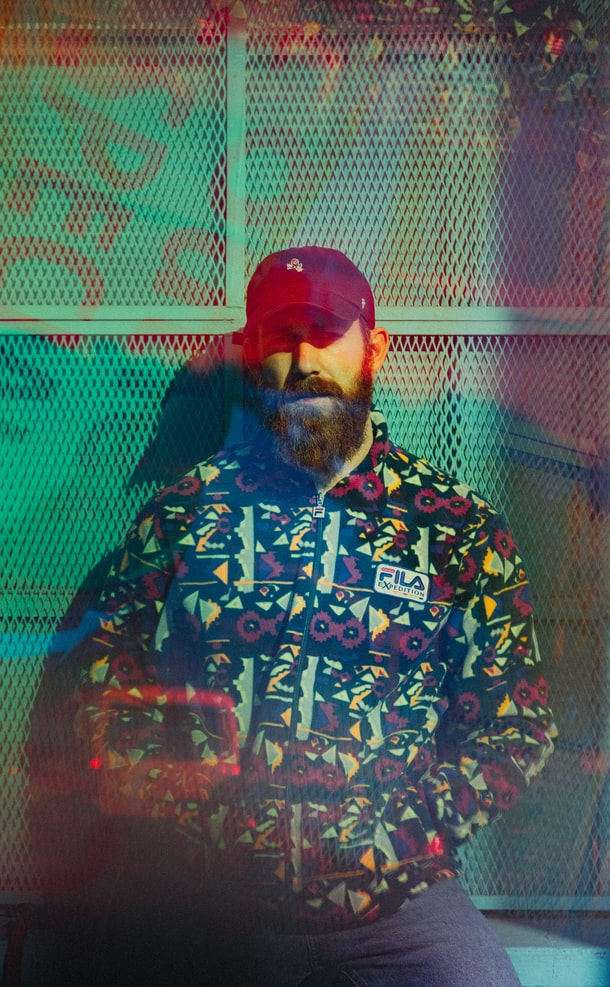beard: (249, 374, 377, 476)
